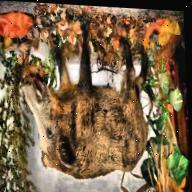boar: (11, 23, 156, 192)
